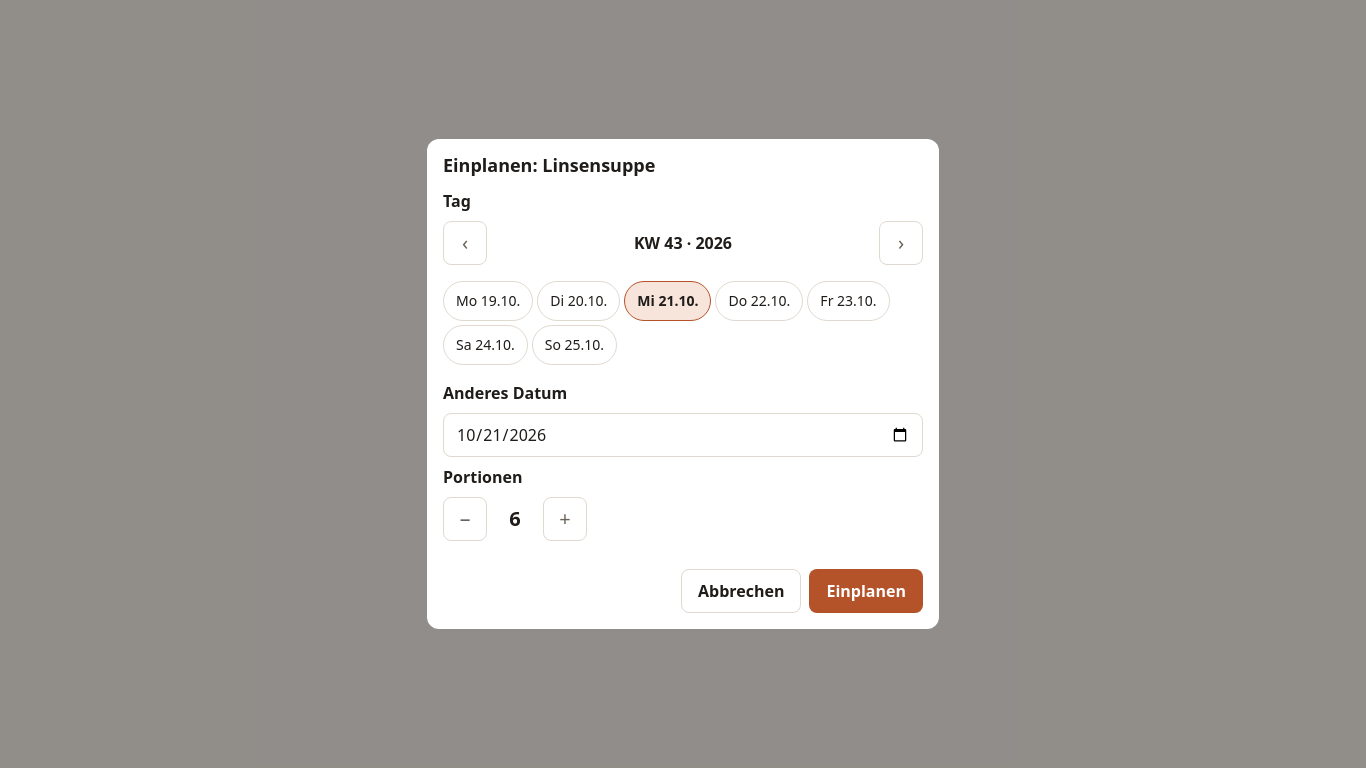
Test: Dialog „Einplanen“ › bleibt bei einem Fehler offen und behält die Auswahl
Step 1. Click the button "Fr 23.10." → point(848, 301), box left=807, top=281, right=890, bottom=321
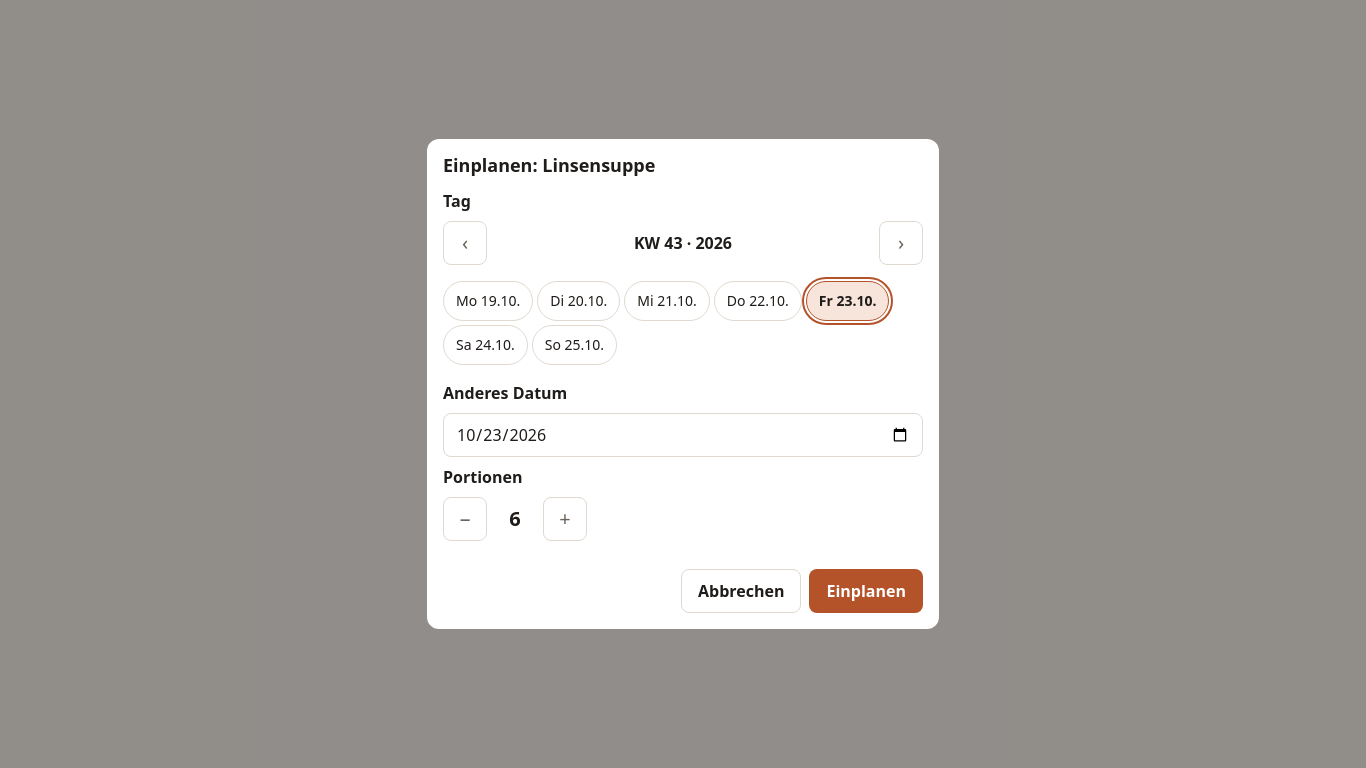
Step 2. Click the button "Einplanen" → point(866, 591), box left=810, top=569, right=923, bottom=613
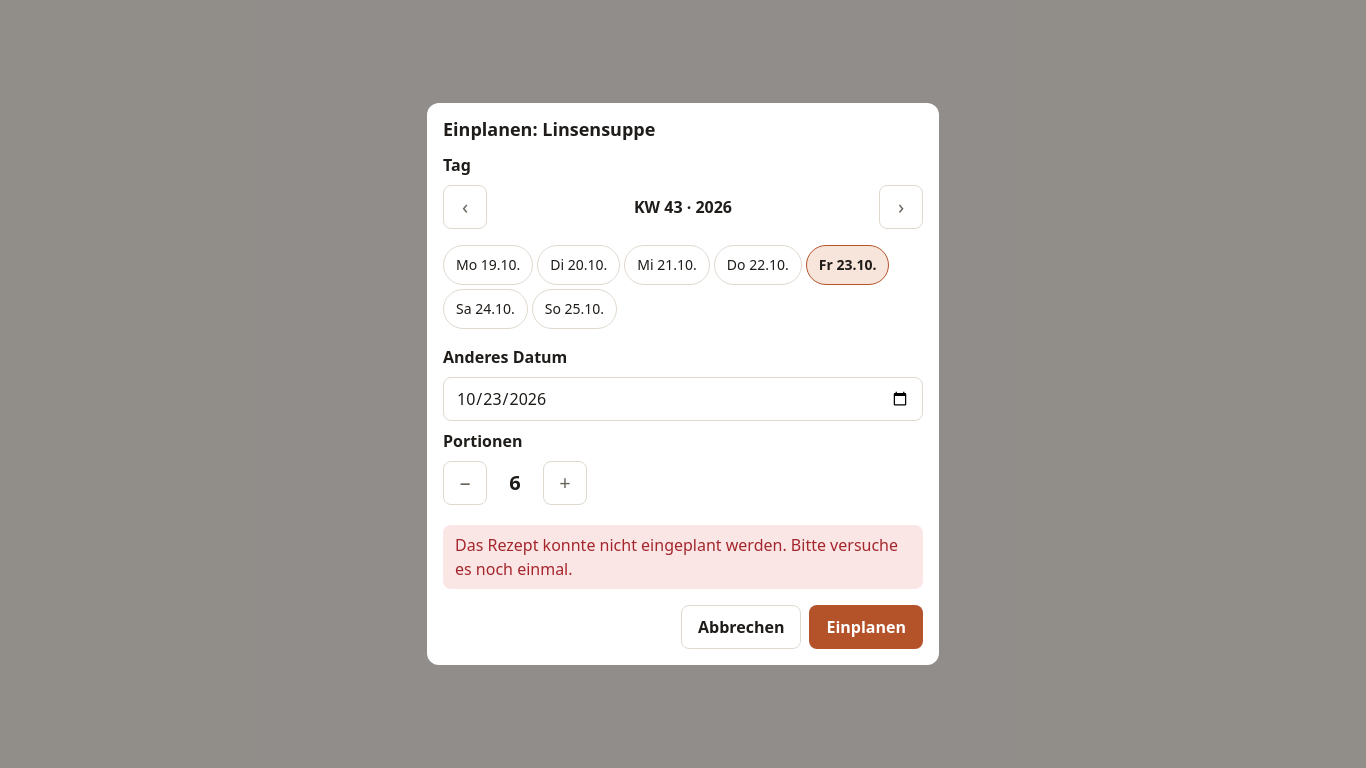
Expected: the button "Einplanen" is enabled, left=810, top=605, right=923, bottom=649
Now the message shows "Das Rezept konnte nicht eingeplant werden.", box left=455, top=534, right=898, bottom=580
